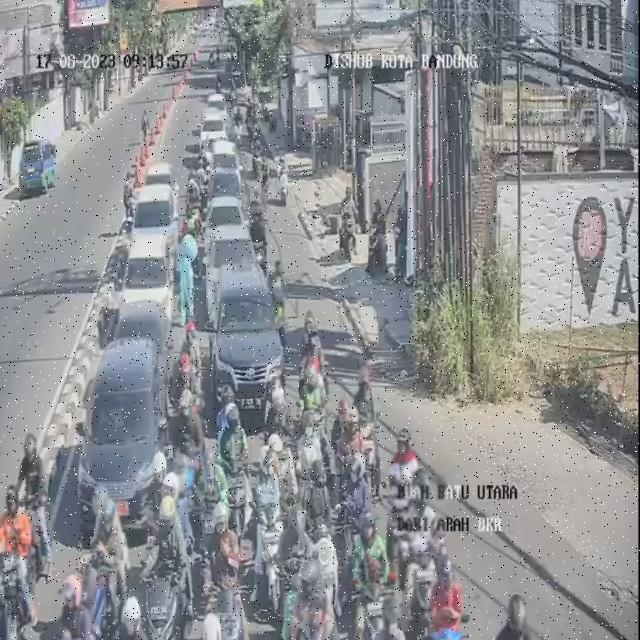cars: (76, 337, 164, 536), (214, 264, 286, 416), (304, 308, 372, 421), (122, 232, 181, 326), (114, 299, 174, 387), (206, 221, 255, 307), (135, 182, 178, 262), (204, 194, 244, 246), (210, 141, 242, 199), (145, 161, 179, 208), (202, 112, 228, 160), (205, 94, 229, 125)
motorcycle: (387, 443, 447, 627), (92, 492, 133, 640), (355, 513, 400, 640), (218, 400, 255, 550), (0, 476, 35, 626), (12, 433, 47, 569), (173, 391, 205, 524), (255, 435, 288, 562), (157, 470, 188, 602), (206, 526, 240, 640), (383, 428, 416, 536), (425, 565, 467, 640), (297, 344, 327, 447), (305, 457, 335, 553), (54, 576, 96, 640), (291, 580, 333, 639), (492, 596, 546, 640), (109, 602, 155, 640), (267, 254, 288, 331), (180, 324, 198, 404), (252, 211, 270, 277), (250, 183, 267, 236), (258, 151, 272, 195)
